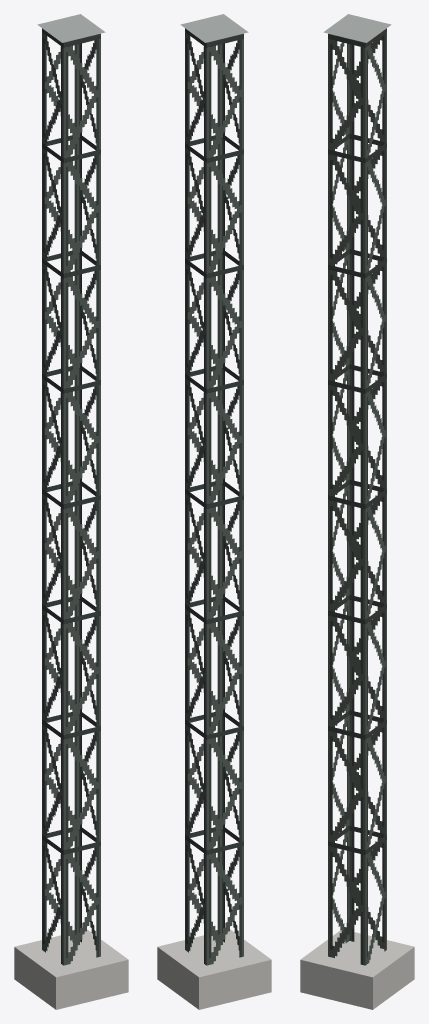
The model's file is trakce_stozar.glb.
3 renders of one model, left to right at view 1: azimuth 30°, elevation 25°; view 2: azimuth 210°, elevation 25°; view 3: azimuth 330°, elevation 25°, orthographic.
Visible parts, largest first — view 1: trakce_stozar; view 2: trakce_stozar; view 3: trakce_stozar.
Part boxes in pixels (bbox=[...]): trakce_stozar: bbox=[14, 14, 128, 1009]; trakce_stozar: bbox=[157, 14, 271, 1009]; trakce_stozar: bbox=[300, 14, 414, 1009].
Size of the model in its own units: 0.7 by 8.82 by 0.7.
Materials: 3 (1 with a texture image).
